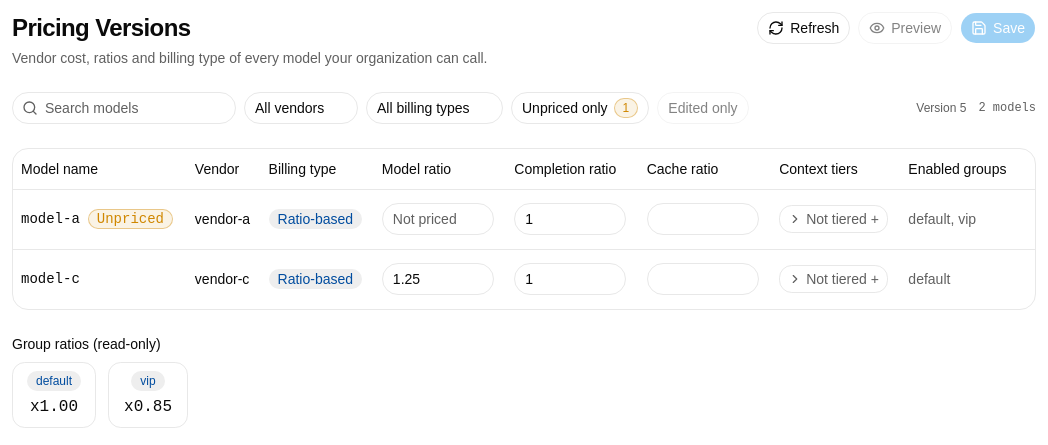
Test case: unpriced models › the unpriced-only filter lists just those models
expect the table with test id "pricing-table" shows "model-a": met, box [21,211,80,227]
Click the button with test id "filter-unpriced" at [580, 108], box [511,92,649,124]
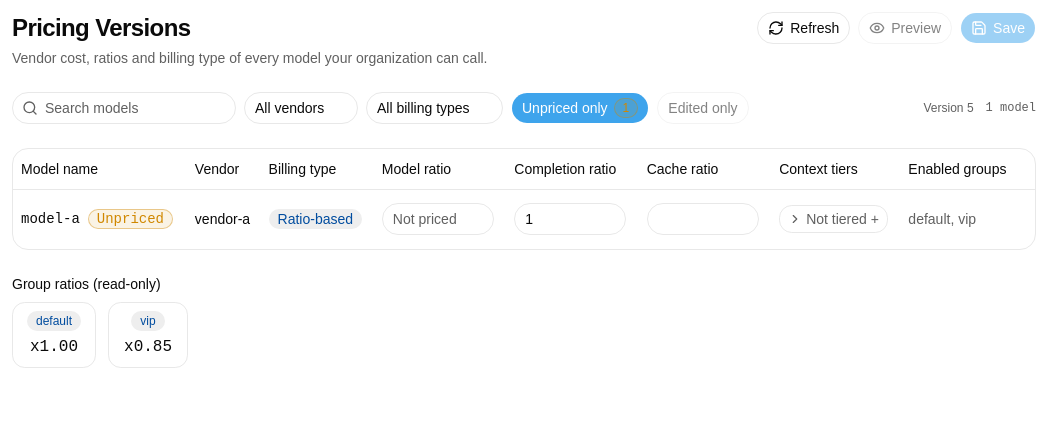
expect the table with test id "pricing-table" shows "model-a": met, box [21,211,80,227]
expect the text with test id "pricing-table" no longer shows "model-c": met
